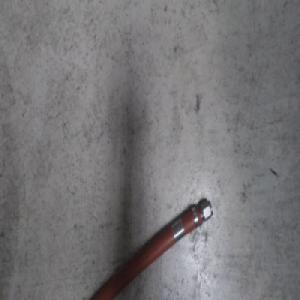Hose: (67, 195, 214, 300)
